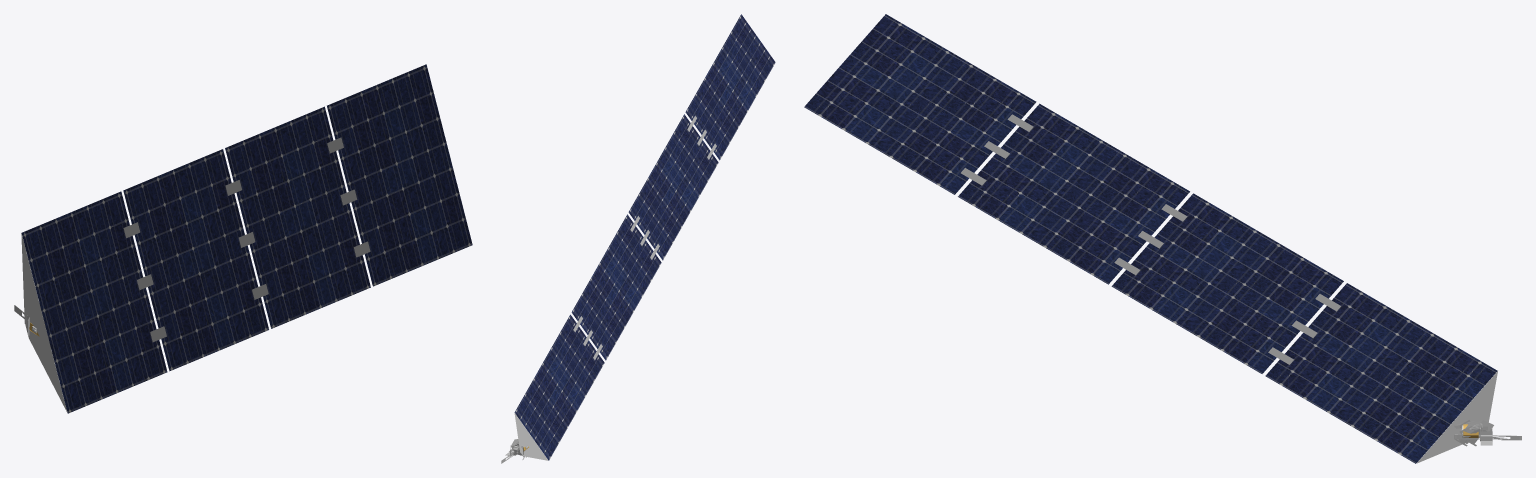
Rendered from LandatUngroup.glb.
3 views of the same model, side by side, from view 1: azimuth 30°, elevation 25°; view 2: azimuth 150°, elevation 25°; view 3: azimuth 270°, elevation 25° (orthographic). The views are drawn at different scales.
Visible parts, largest first — view 1: Cube.009, Cube.007, Cube.039; view 2: Cube.009, Cube.007, Cube.039; view 3: Cube.009, Cube.039, Cube.007.
Part boxes in pixels (x1,y1,x2,y2): Cube.009: (21,64,472,413); Cube.007: (21,233,67,412); Cube.039: (123,137,370,342); Cube.009: (514,14,775,460); Cube.007: (514,413,548,460); Cube.039: (573,115,716,359); Cube.009: (804,14,1497,463); Cube.039: (961,114,1340,364); Cube.007: (1417,371,1497,463).
Bounding box in the file's own units: 1.37 × 14.13 × 20.63.
Materials: 5 (2 with a texture image).
